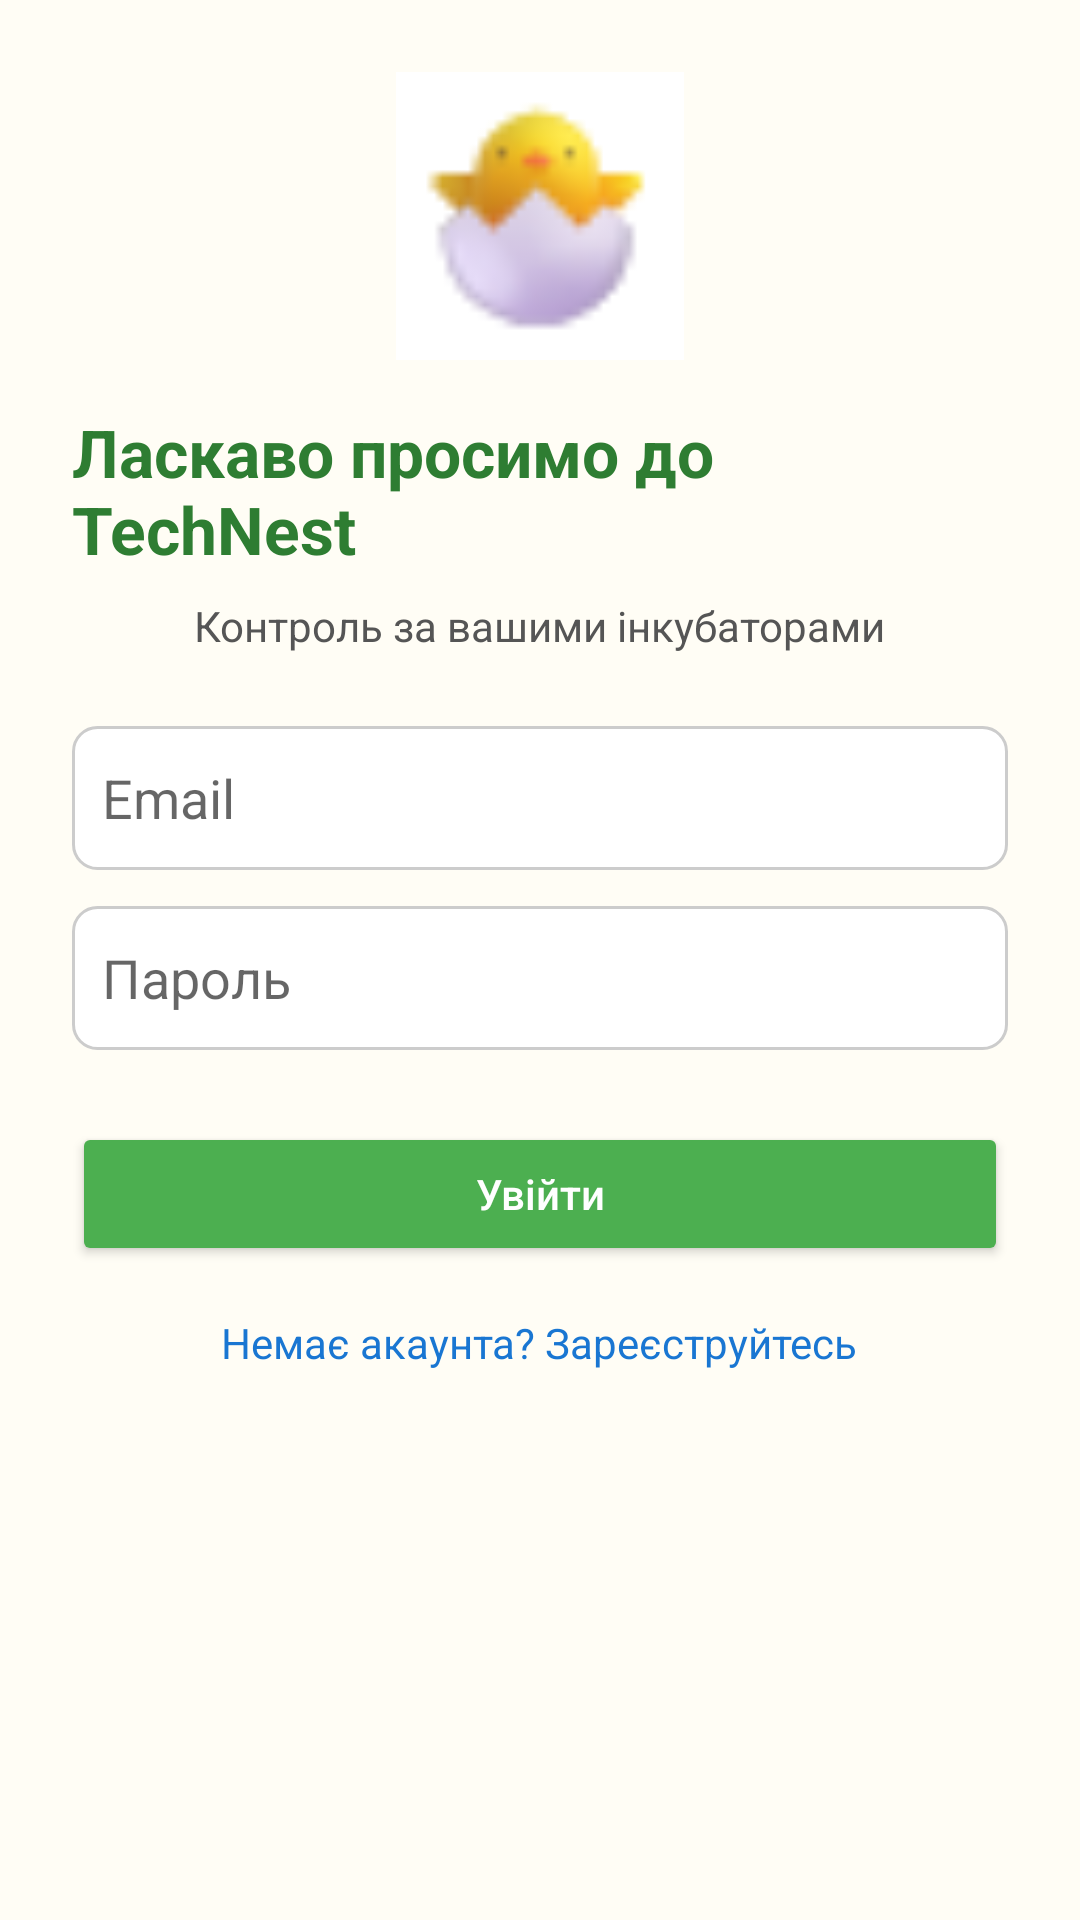

Icon click points for this 1080x1920 phone screenshot, format (x=x, y=y):
Інкубатор: (x=536, y=217)
